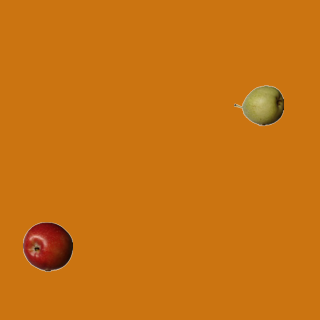Apple Braeburn: (22, 221, 72, 271)
Pear: (233, 80, 283, 130)
